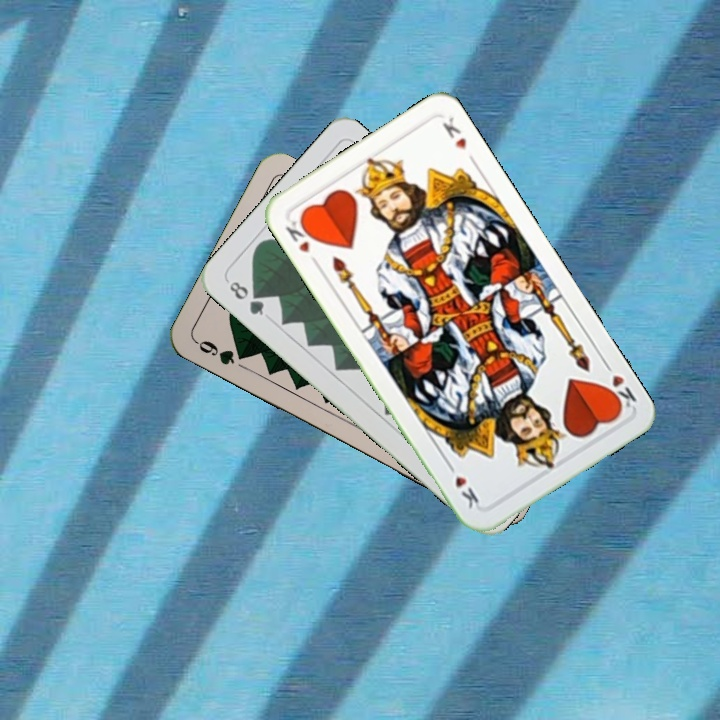G8: (225, 277, 267, 319)
G9: (191, 336, 251, 368)
HK: (281, 212, 322, 269), (599, 357, 639, 415)
